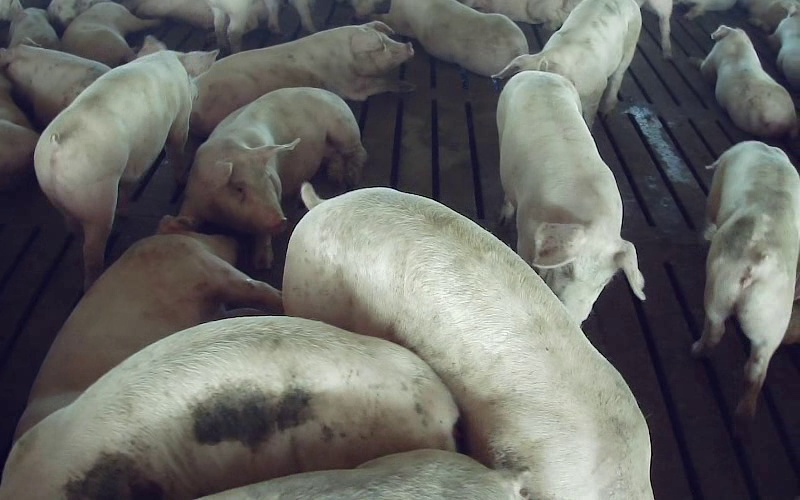pig: (0, 318, 457, 499), (14, 217, 279, 439), (497, 71, 643, 324), (180, 88, 365, 268), (692, 141, 799, 415), (190, 21, 413, 135), (691, 25, 796, 136), (375, 0, 528, 75)
